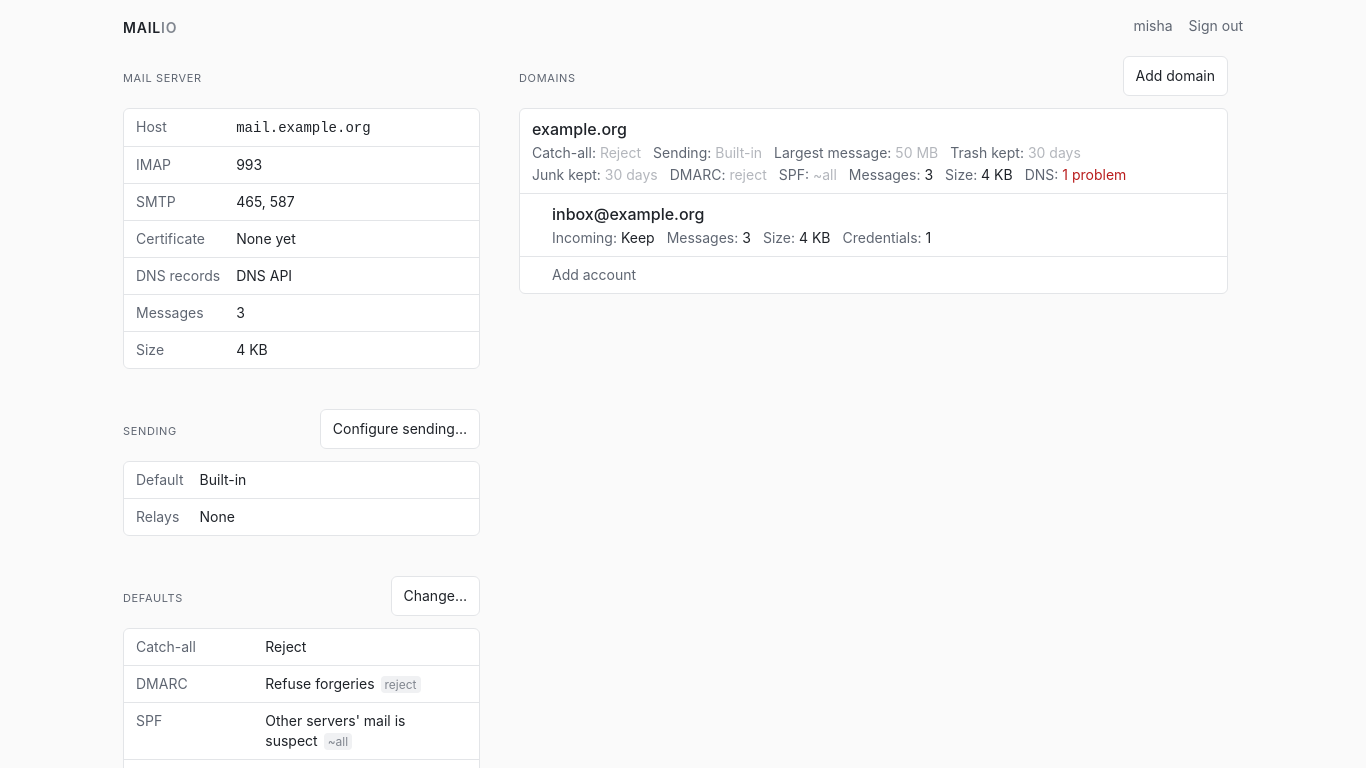
Test case: a record DNS serves otherwise is marked on the row and in the dialog, with what was found
This screenshot has width=1366, height=768.
Click the button "example.org" at point(874, 151), box x1=520 y1=109 x2=1227 y2=193
(page scrolled)
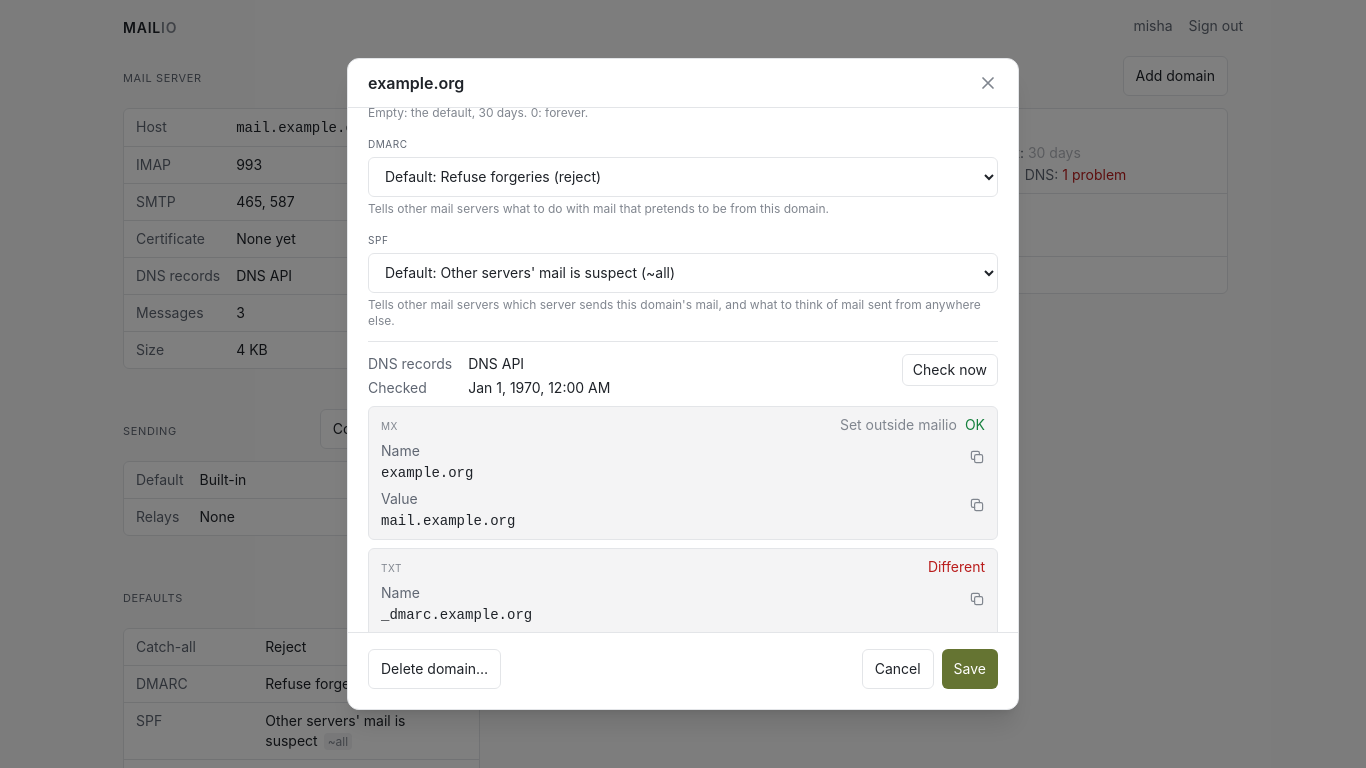
Expected: the text "Set outside mailio" is shown, x1=840 y1=415 x2=957 y2=435
Expected: the text "Different" is shown, x1=928 y1=557 x2=985 y2=577
Click the button "Check now" at point(950, 370), box x1=902 y1=354 x2=998 y2=386
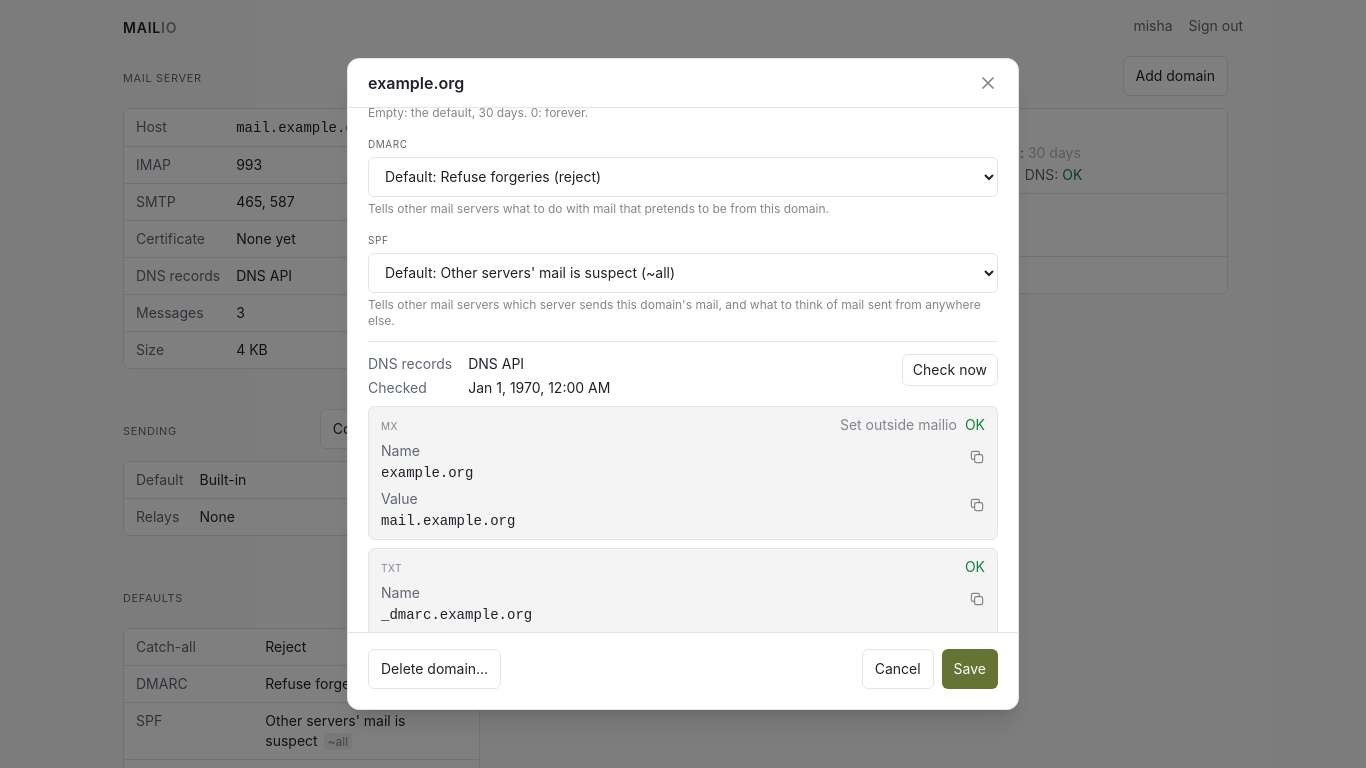
Expected: the text "v=DMARC1; p=none" is not shown
Expected: the text "Different" is gone
